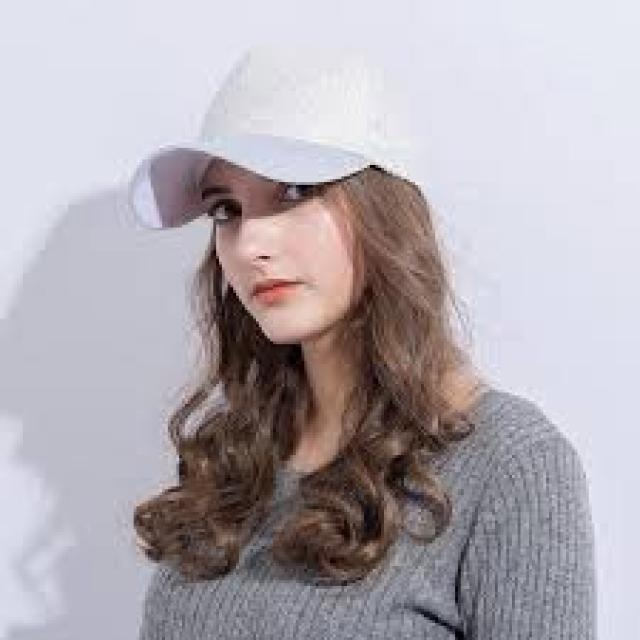cap: (103, 22, 402, 251)
